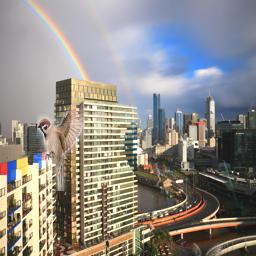Sparrow: (37, 91, 85, 191)
